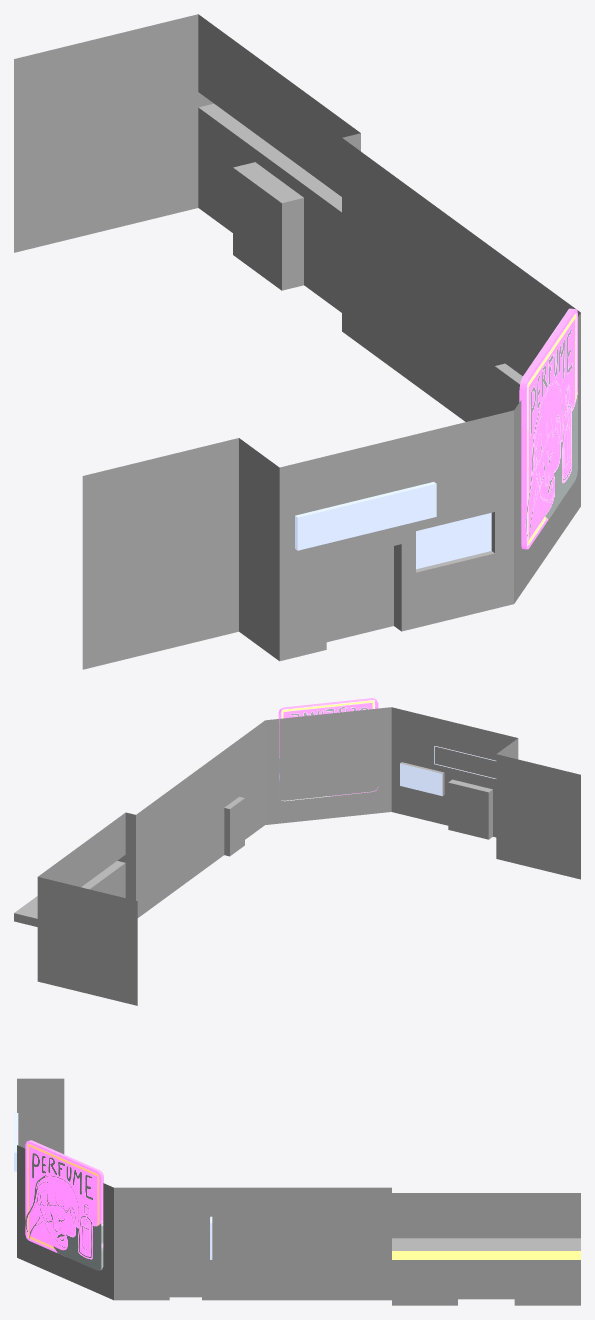
3 renders of one model, top to bottom at view 1: azimuth 30°, elevation 25°; view 2: azimuth 150°, elevation 25°; view 3: azimuth 270°, elevation 25°, orthographic. The views are drawn at different scales.
Visible parts, largest first — view 1: buildings_tile_Ba, luces_tile_Ba; view 2: buildings_tile_Ba, luces_tile_Ba; view 3: buildings_tile_Ba, luces_tile_Ba.
Boxes of the visible parts, box(x1,y1,x2,y2) form: buildings_tile_Ba: box(14, 14, 580, 669); luces_tile_Ba: box(295, 308, 577, 569); buildings_tile_Ba: box(14, 707, 580, 1005); luces_tile_Ba: box(278, 698, 495, 801); buildings_tile_Ba: box(17, 1078, 580, 1305); luces_tile_Ba: box(14, 1113, 580, 1270).
Bounding box in the file's own units: 19.08 × 6.4 × 26.68.
